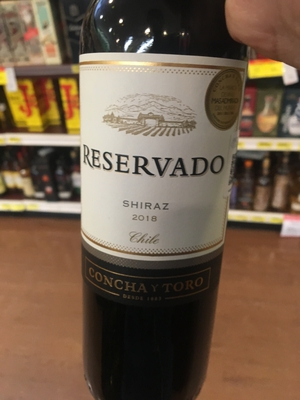reservado shiraz: (74, 28, 248, 385)
